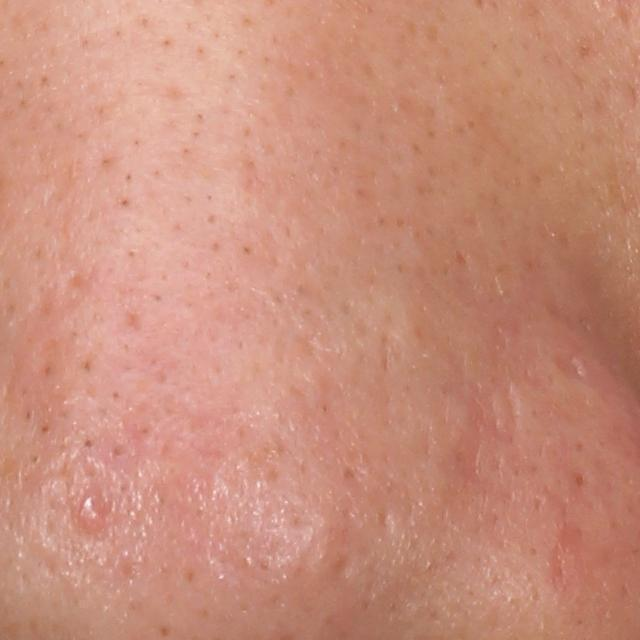atrophic_scar: (454, 369, 485, 489), (35, 267, 92, 326), (547, 347, 590, 386)
papule: (72, 493, 110, 533)
